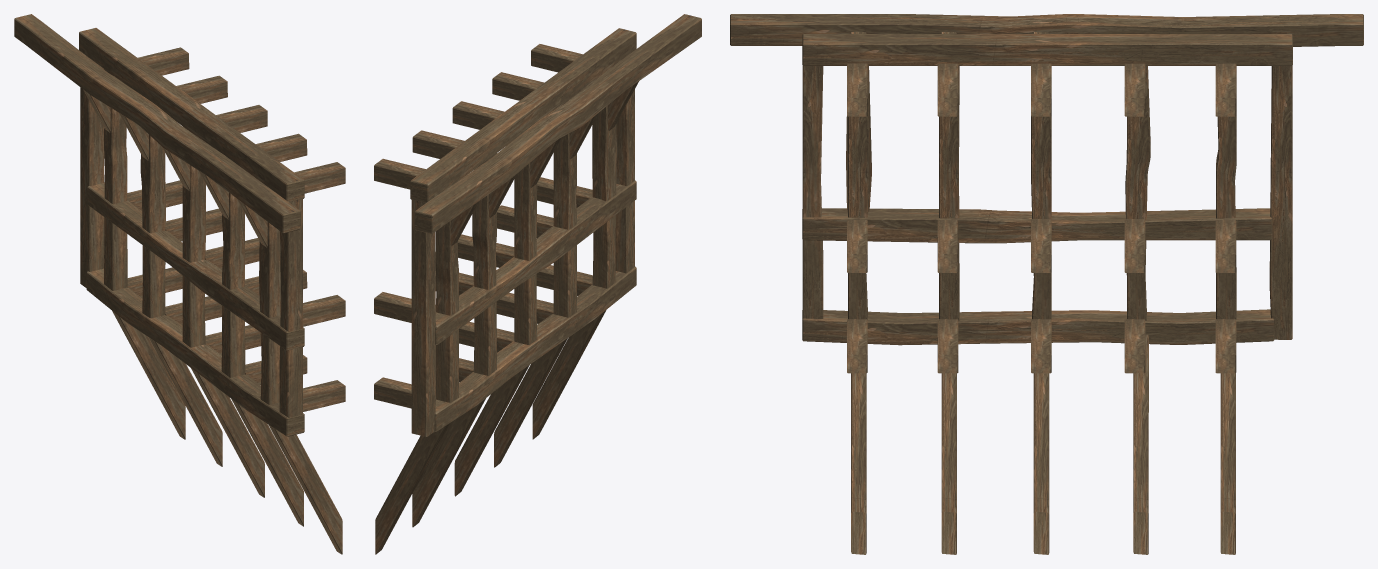
Rendered from SM_wooden_structure_02.fbx.
3 views of the same model, side by side, from view 1: azimuth 30°, elevation 25°; view 2: azimuth 150°, elevation 25°; view 3: azimuth 270°, elevation 25° (orthographic). The views are drawn at different scales.
Visible parts, largest first — view 1: SM_wooden_structure_02_LOD0; view 2: SM_wooden_structure_02_LOD0; view 3: SM_wooden_structure_02_LOD0.
Boxes of the visible parts, x1,y1,x2,y2 form: SM_wooden_structure_02_LOD0: (14,14,345,554); SM_wooden_structure_02_LOD0: (374,14,701,554); SM_wooden_structure_02_LOD0: (730,14,1363,554).
Size of the model in its own units: 326 by 1349 by 1122.
Materials: 1 (1 with a texture image).
